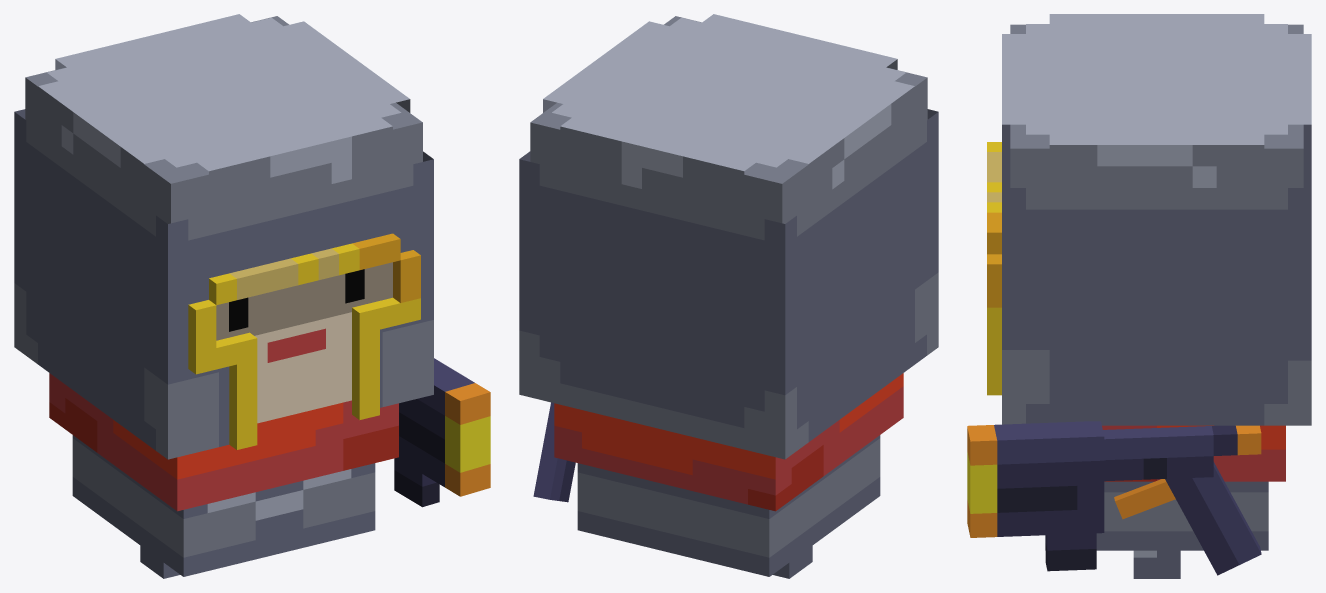
File: playerAfterImage.glb
3 renders of one model, left to right at view 1: azimuth 30°, elevation 25°; view 2: azimuth 150°, elevation 25°; view 3: azimuth 270°, elevation 25°, orthographic.
Visible parts, largest first — view 1: knight player; view 2: knight player; view 3: knight player.
Part boxes in pixels (x1,y1,x2,y2): knight player: (14,14,490,578); knight player: (519,14,938,578); knight player: (967,14,1311,578).
Size of the model in its own units: 2.37 by 3.4 by 2.29.
